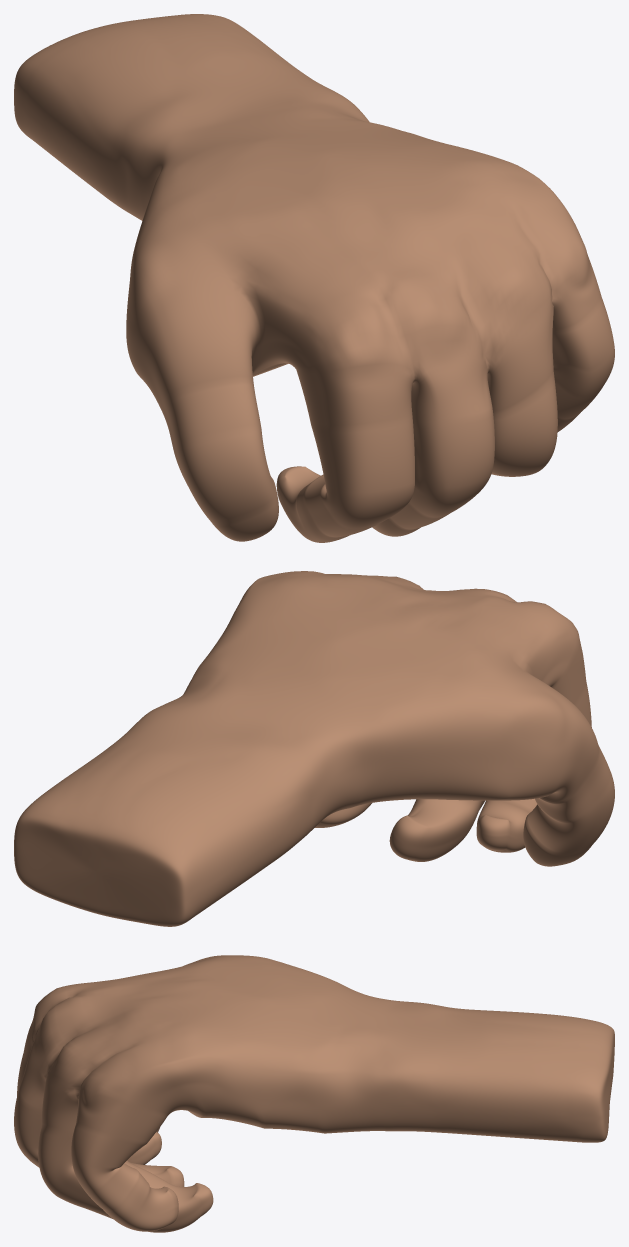
The model's file is new_hand_deneme3.fbx.
The picture shows the model from 3 angles, top to bottom: view 1: azimuth 30°, elevation 25°; view 2: azimuth 150°, elevation 25°; view 3: azimuth 270°, elevation 25°; orthographic projection. The views are drawn at different scales.
Parts seen in each view (by area): view 1: Cube; view 2: Cube; view 3: Cube.
Boxes of the visible parts, <box> form: Cube: <box>14,14,614,542</box>; Cube: <box>14,571,614,926</box>; Cube: <box>14,955,614,1232</box>.
Size of the model in its own units: 230 by 168 by 407.
